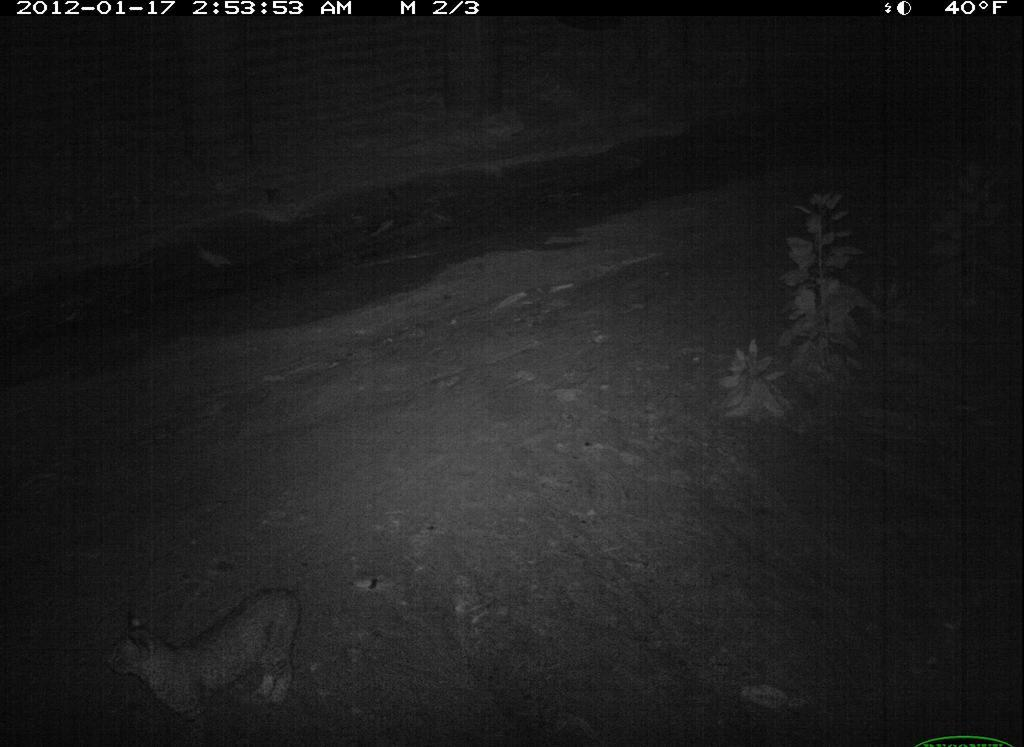bobcat: (94, 583, 314, 747)
